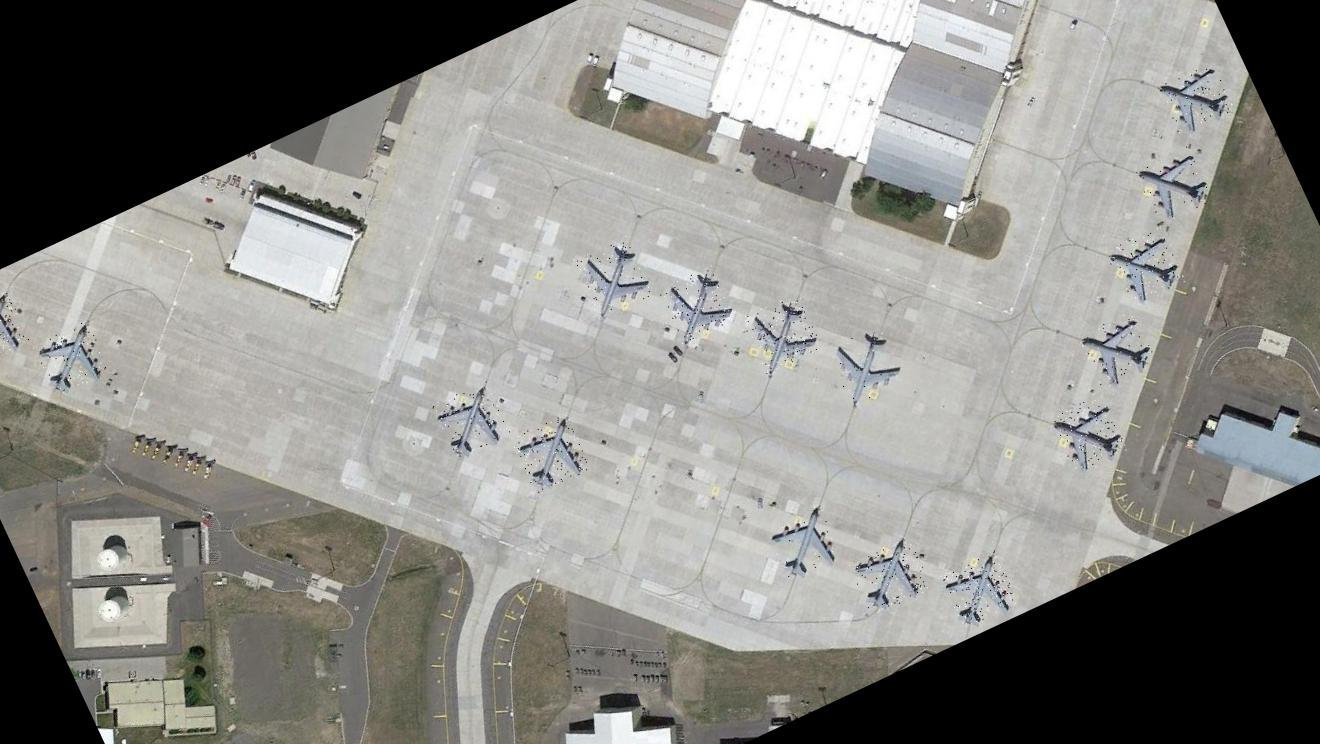A14: (572, 234, 656, 322), (847, 536, 934, 618), (1104, 224, 1188, 308), (510, 412, 593, 495), (741, 291, 824, 374), (826, 324, 908, 406), (1134, 144, 1214, 228), (1048, 394, 1128, 477), (658, 264, 738, 346), (1155, 58, 1236, 138), (764, 501, 844, 581), (1078, 310, 1158, 390), (432, 379, 511, 460), (32, 320, 112, 398), (940, 550, 1020, 628), (0, 289, 31, 366)
